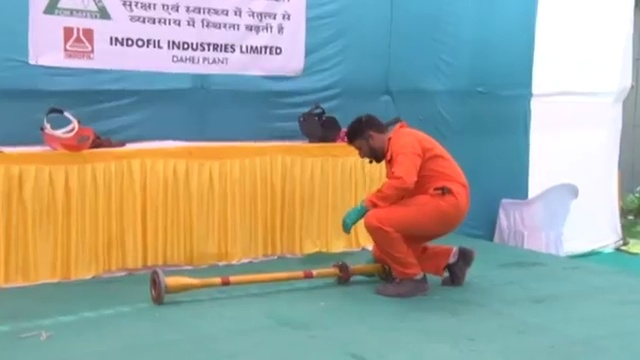helmet_off: (347, 112, 391, 166)
person: (340, 107, 483, 291)
